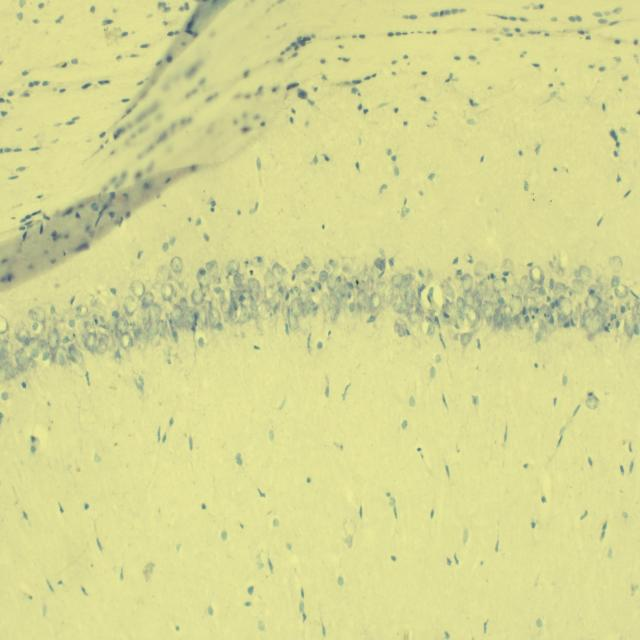neuron: (68, 345, 85, 367), (585, 315, 601, 337), (236, 304, 251, 327), (91, 312, 110, 330), (193, 326, 210, 346), (443, 302, 460, 320), (420, 316, 435, 336), (558, 297, 573, 317), (257, 301, 272, 320), (124, 296, 138, 316), (206, 260, 219, 281), (509, 295, 522, 316), (254, 315, 270, 332), (130, 280, 145, 298), (196, 269, 211, 287), (394, 318, 408, 337), (287, 310, 300, 330), (579, 265, 592, 285), (57, 345, 68, 368), (148, 304, 162, 322), (208, 305, 220, 326), (530, 266, 544, 284), (15, 348, 28, 367), (134, 329, 149, 345), (272, 263, 284, 283), (369, 293, 381, 313), (585, 294, 600, 310), (191, 287, 205, 304), (463, 305, 477, 322), (161, 283, 174, 301), (625, 313, 635, 336), (540, 304, 552, 323), (592, 313, 604, 332), (550, 261, 565, 276), (48, 329, 59, 349), (291, 298, 302, 318), (146, 322, 158, 340), (170, 304, 182, 322), (248, 278, 260, 296), (338, 273, 347, 297), (408, 304, 420, 322), (0, 339, 14, 354), (16, 328, 31, 342), (492, 278, 507, 292), (552, 280, 566, 295), (156, 319, 167, 338), (116, 317, 129, 333), (141, 292, 154, 308), (157, 265, 170, 281), (442, 282, 455, 298), (85, 333, 97, 350), (120, 332, 132, 349), (171, 257, 183, 274), (482, 302, 494, 319), (524, 292, 536, 309), (184, 310, 194, 330), (300, 282, 310, 302), (330, 294, 339, 316), (462, 274, 473, 292), (226, 259, 240, 273), (474, 261, 488, 275), (614, 284, 628, 298), (391, 273, 404, 288), (571, 278, 584, 293), (341, 256, 353, 272), (464, 292, 476, 308), (610, 256, 622, 272), (264, 269, 274, 288), (322, 292, 330, 315), (502, 258, 516, 271), (556, 312, 569, 326), (242, 289, 252, 307), (326, 273, 336, 291), (357, 290, 366, 310), (359, 268, 369, 286), (404, 289, 416, 304), (528, 305, 540, 320), (308, 299, 318, 317), (236, 283, 252, 294), (263, 285, 273, 302), (362, 293, 370, 314), (402, 274, 414, 288), (374, 257, 386, 271), (460, 332, 472, 346), (469, 313, 480, 328), (0, 316, 9, 334), (227, 268, 236, 286), (583, 310, 592, 328), (198, 306, 206, 326), (229, 301, 237, 321), (249, 303, 259, 319), (520, 276, 530, 292), (7, 365, 19, 378), (78, 320, 91, 332), (598, 300, 609, 314), (194, 313, 203, 330), (254, 291, 264, 306), (588, 284, 603, 294), (40, 338, 48, 356), (76, 304, 88, 316), (151, 332, 160, 348), (531, 321, 541, 335), (565, 286, 575, 300), (179, 298, 188, 313), (300, 302, 309, 317), (0, 368, 11, 380), (28, 338, 39, 350), (56, 309, 67, 321), (230, 289, 241, 301), (368, 270, 374, 292), (21, 364, 31, 377), (494, 308, 502, 324), (221, 299, 230, 313), (302, 256, 311, 270), (503, 304, 512, 318), (294, 262, 305, 273), (95, 344, 107, 354), (100, 333, 110, 345), (234, 273, 242, 288), (318, 270, 328, 282), (394, 294, 404, 306), (99, 337, 107, 351), (279, 284, 287, 298), (457, 296, 465, 310), (0, 350, 11, 360), (503, 315, 513, 326), (376, 286, 385, 298), (430, 308, 439, 320), (491, 292, 500, 304), (281, 303, 288, 318), (397, 303, 407, 313), (610, 276, 620, 286), (90, 343, 97, 357), (574, 308, 581, 322), (2, 362, 12, 371), (55, 322, 64, 332), (477, 284, 487, 293), (49, 347, 56, 359), (519, 316, 525, 330), (633, 323, 640, 335), (378, 282, 387, 291), (28, 358, 36, 368), (31, 348, 39, 358), (66, 331, 74, 341), (145, 320, 151, 332), (223, 316, 231, 325), (632, 304, 638, 316), (476, 291, 483, 301), (536, 332, 542, 343), (579, 315, 585, 326), (393, 303, 401, 311), (539, 286, 546, 295), (43, 351, 49, 361), (349, 303, 355, 313), (214, 286, 221, 294), (636, 302, 640, 316), (62, 336, 68, 344), (112, 312, 119, 318)
